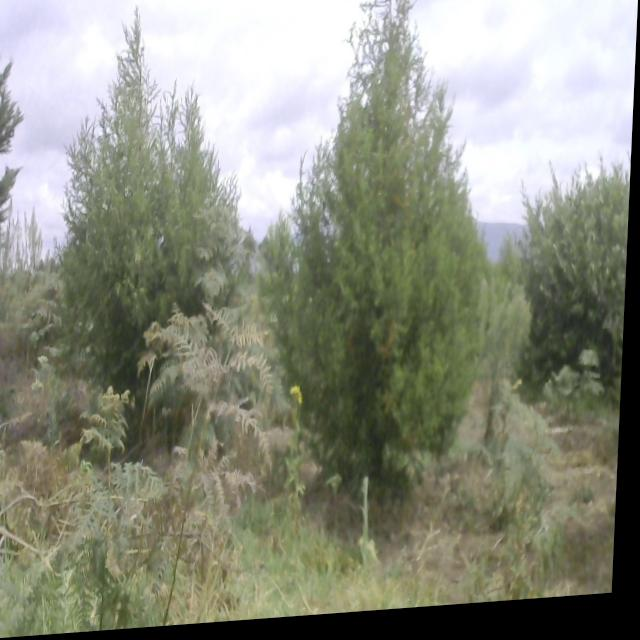cedrus: (259, 0, 503, 478), (47, 1, 245, 403), (515, 169, 632, 381)
